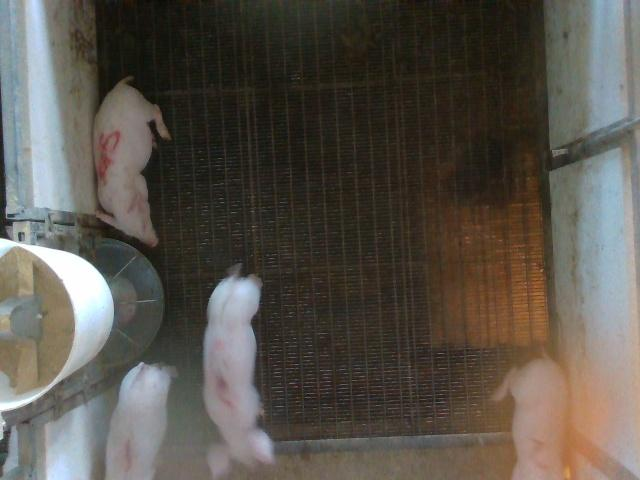pig-1: (105, 362, 178, 478)
pig-2: (492, 355, 568, 478)
pig-3: (204, 264, 274, 478)
pig-5: (94, 76, 170, 246)
